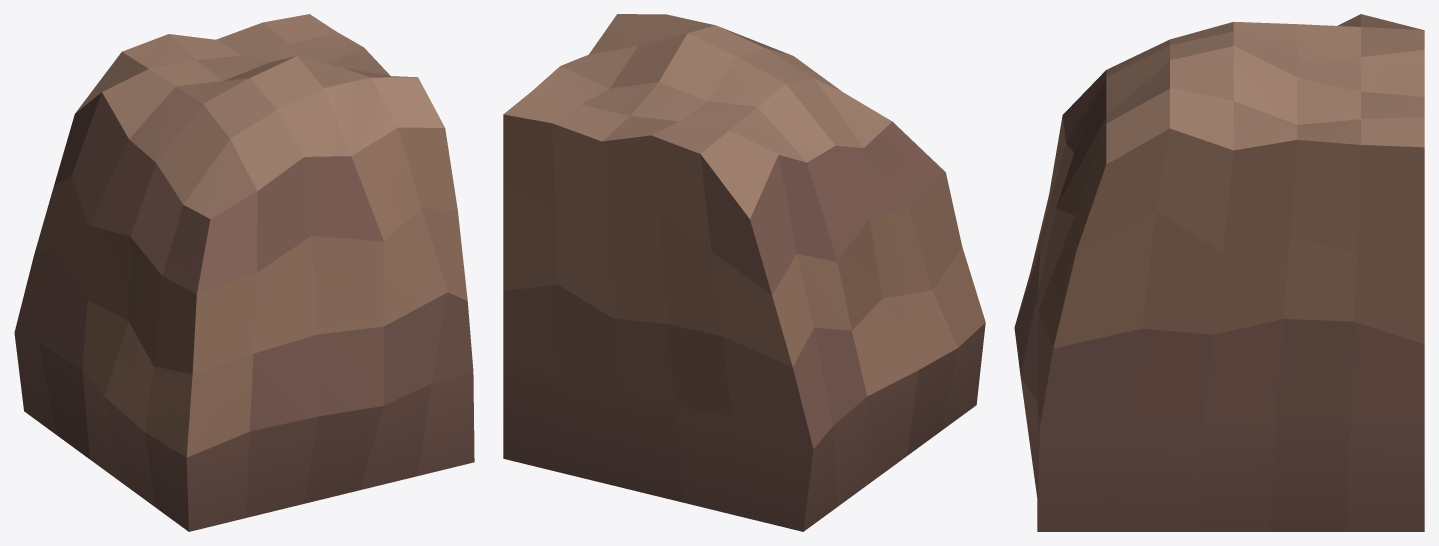
File: roca_esquina_2.glb
The picture shows the model from 3 angles, left to right: view 1: azimuth 30°, elevation 25°; view 2: azimuth 150°, elevation 25°; view 3: azimuth 270°, elevation 25°; orthographic projection. The views are drawn at different scales.
Parts seen in each view (by area): view 1: propforge-cuartos-roca_esquina; view 2: propforge-cuartos-roca_esquina; view 3: propforge-cuartos-roca_esquina.
Part boxes in pixels (x1,y1,x2,y2): propforge-cuartos-roca_esquina: (14,14,474,531); propforge-cuartos-roca_esquina: (503,14,985,531); propforge-cuartos-roca_esquina: (1014,14,1424,531).
Bounding box in the file's own units: 0.9463 × 1.11 × 0.9534.
